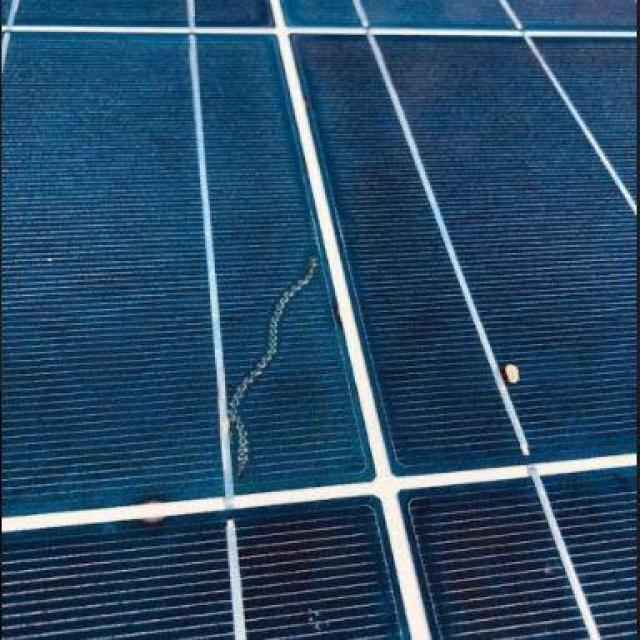electrical damage: (199, 239, 360, 506)
